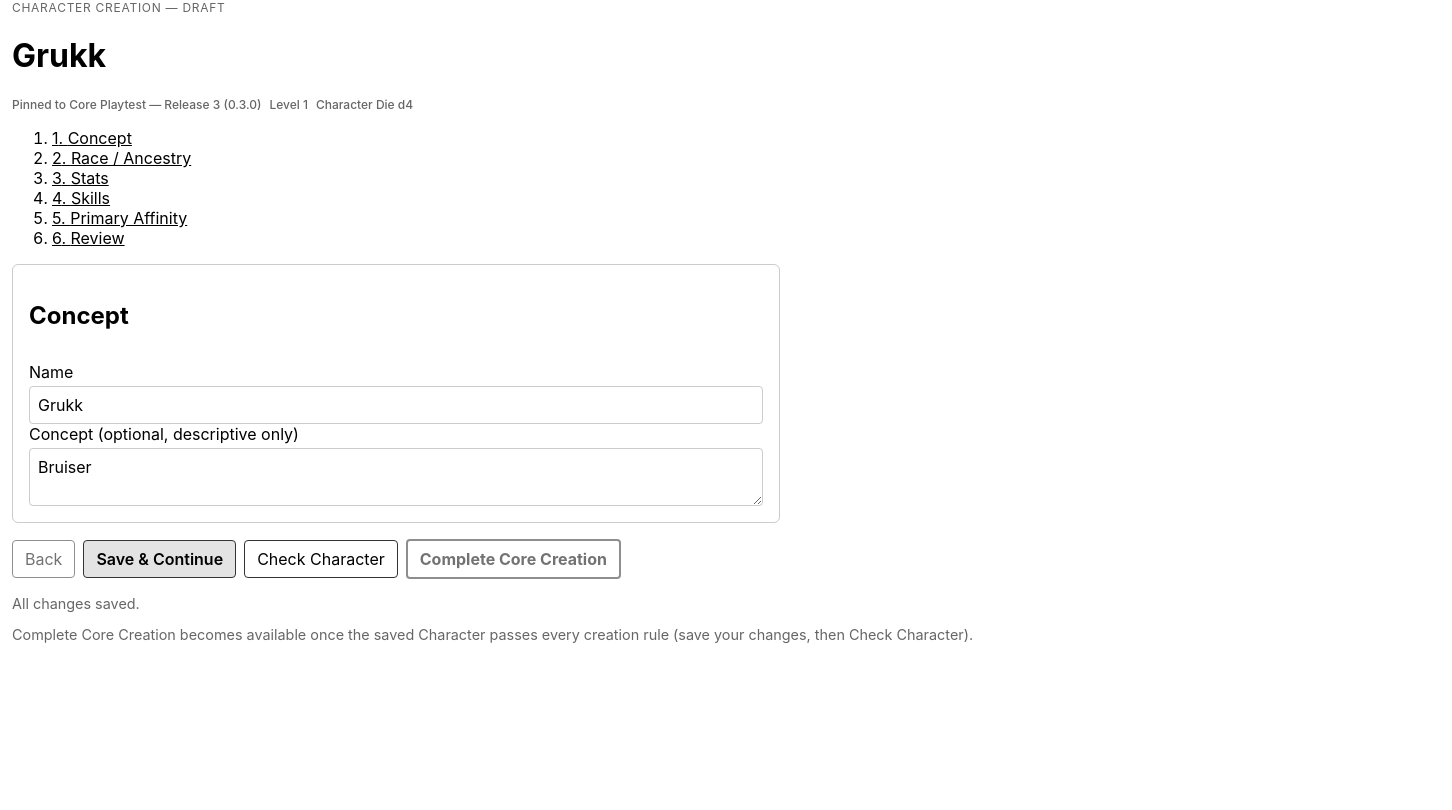
M6-WO11 creation save and resume › M6-I175 L08 a failed second write keeps the acknowledged profile; the retry sends only the choices at the new version
The width and height of the screenshot is (1452, 810).
Expected: the element with test id "character-wizard" is shown, [12,0,973,643]
Step 1. Replace the text in the field labelled "Name" with "Grukk Renamed" → [396, 405], box [29,386,763,424]
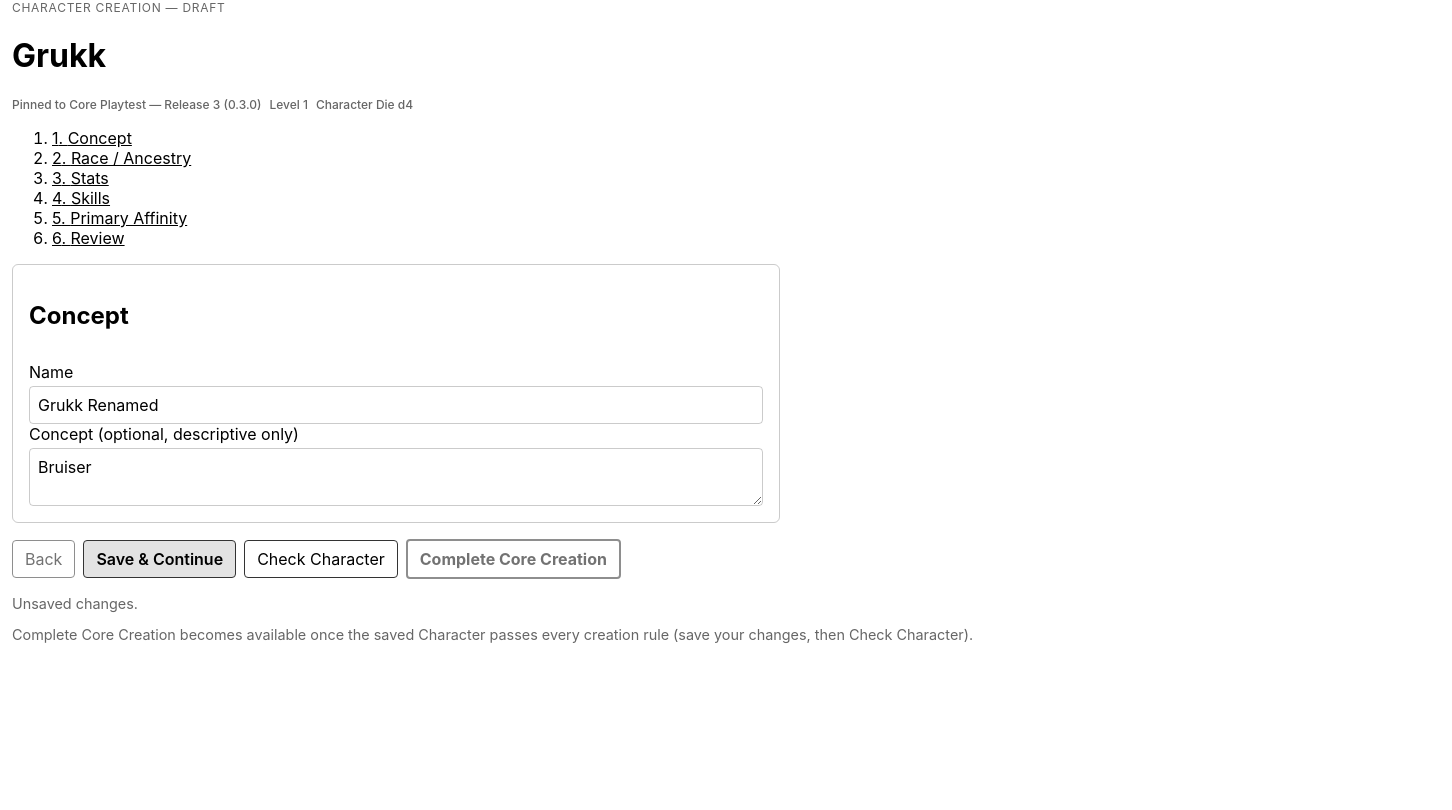
Step 2. Click the button "2. Race / Ancestry" → [122, 158], box [52,148,191,168]
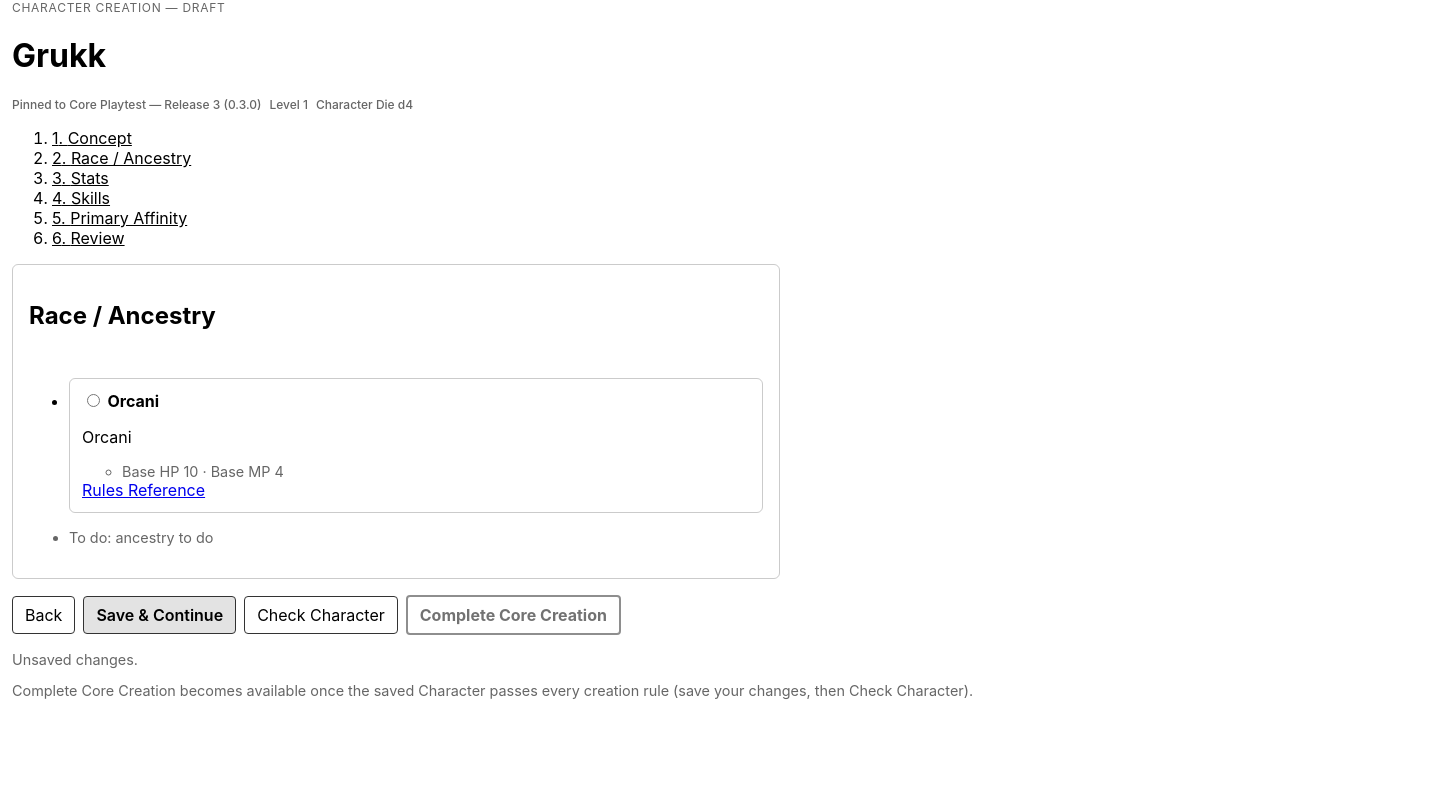
Step 3. Click the radio button → [94, 400], box [87,394,100,407]
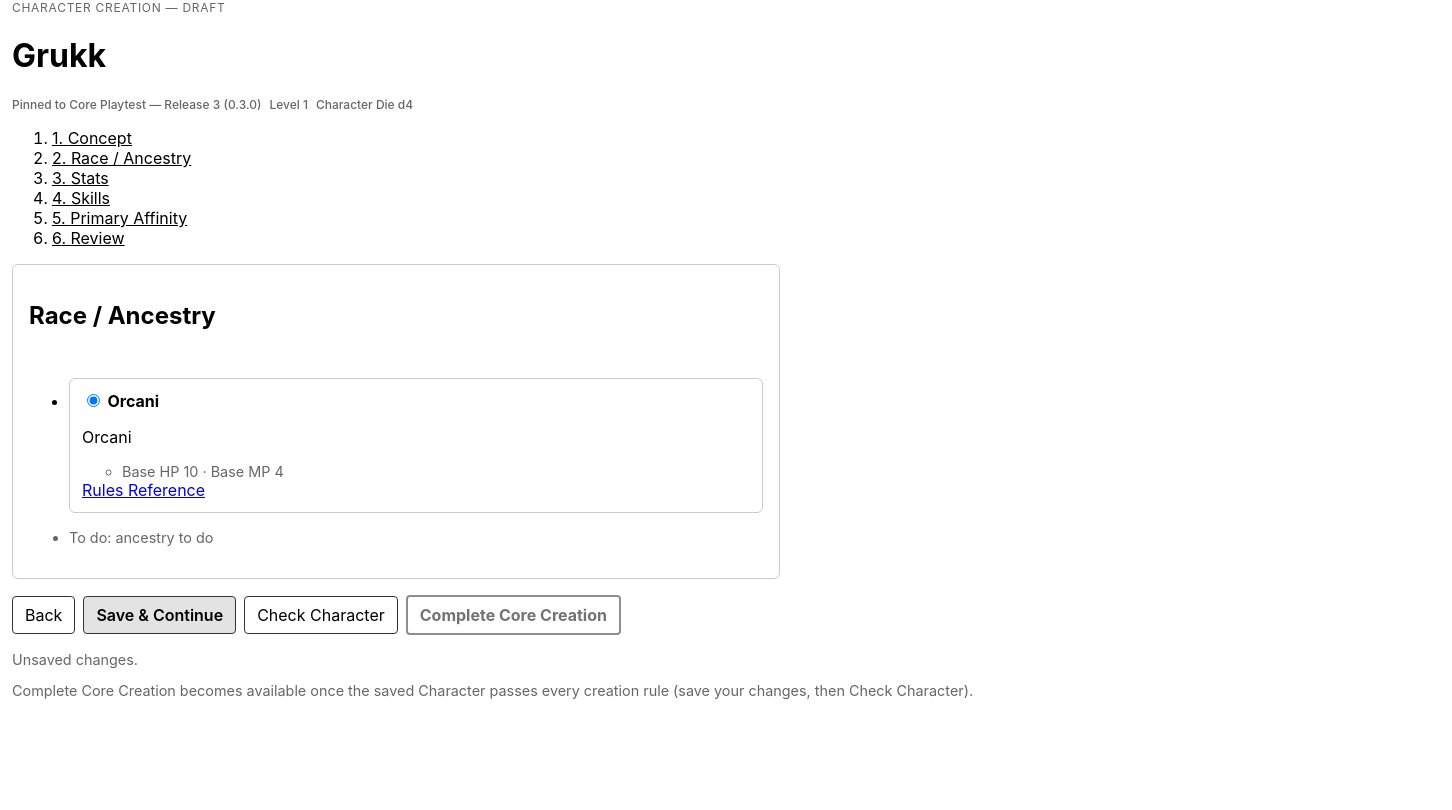
Step 4. Click the button with test id "wizard-save" → [160, 615], box [83,596,236,634]
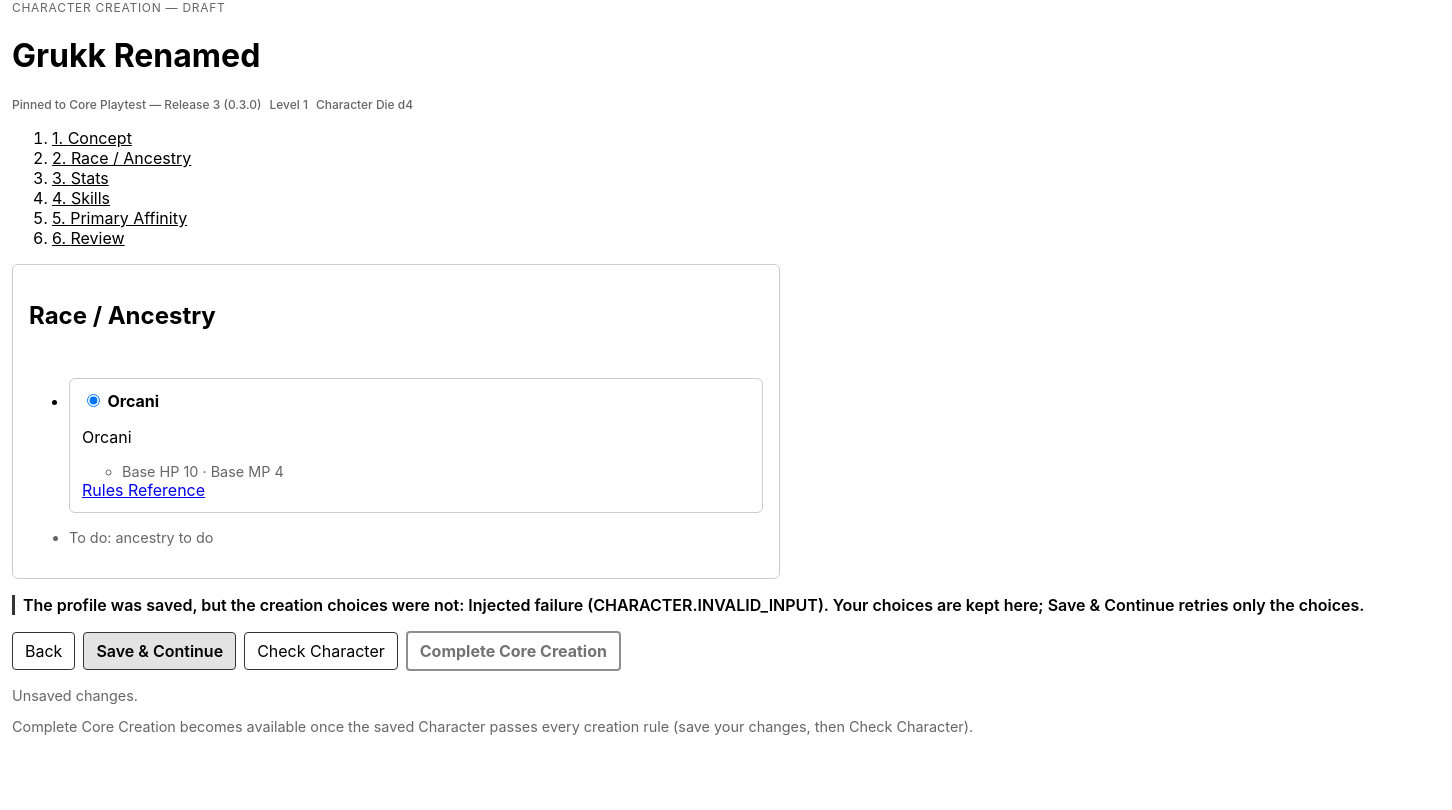
Expected: the message with test id "wizard-save-state" reads "Unsaved changes.", [12,687,138,704]
Expected: the heading "Race / Ancestry" is shown, [29,301,216,330]
Expected: the message with test id "wizard-message" shows "The profile was saved, but the creation choices were not", [23,595,1364,615]
Step 5. Click the button with test id "wizard-save" → [160, 651], box [83,632,236,670]
(page scrolled)
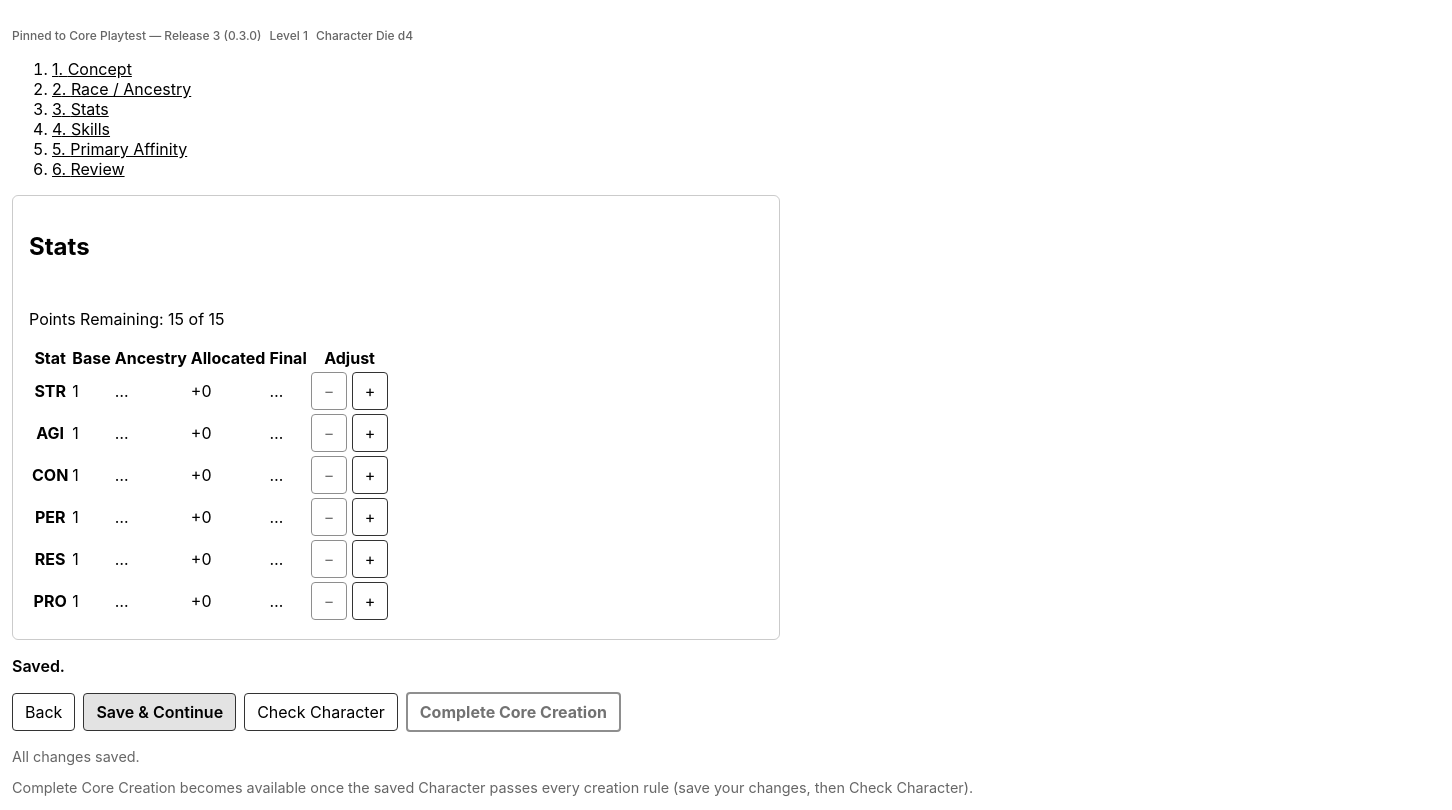
Expected: the message with test id "wizard-message" reads "Saved.", [12,656,65,676]
Expected: the message with test id "wizard-save-state" reads "All changes saved.", [12,748,140,765]
